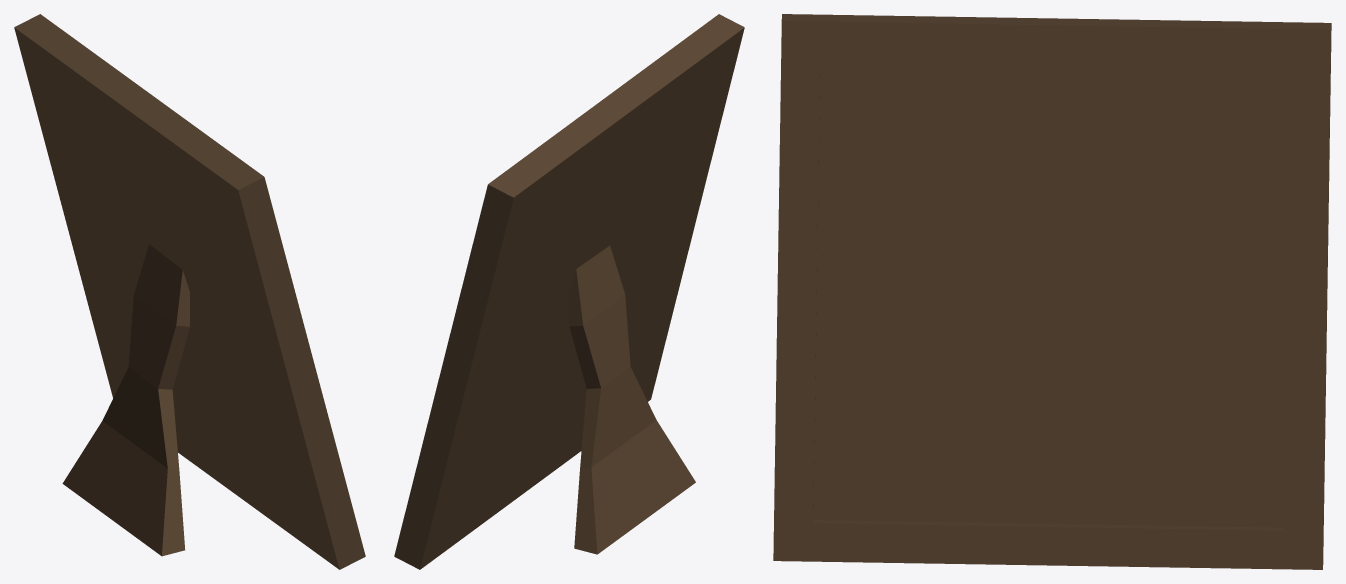
File: PictureFrame.fbx
3 renders of one model, left to right at view 1: azimuth 30°, elevation 25°; view 2: azimuth 150°, elevation 25°; view 3: azimuth 270°, elevation 25°, orthographic. The views are drawn at different scales.
Visible parts, largest first — view 1: Cube; view 2: Cube; view 3: Cube.
Boxes of the visible parts, left/top/right/bottom form: Cube: left=14, top=14, right=365, bottom=569; Cube: left=394, top=14, right=744, bottom=569; Cube: left=773, top=14, right=1331, bottom=569.
Bounding box in the file's own units: 14.33 × 40.1 × 40.56.
